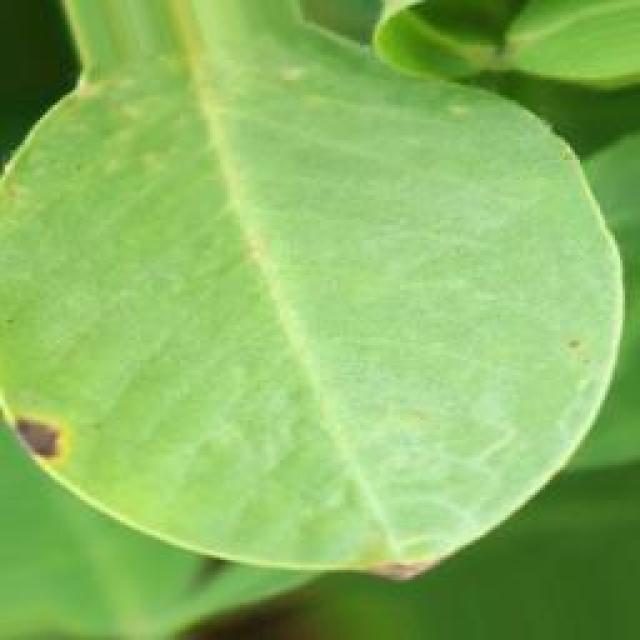Sigatoka: (550, 306, 640, 388), (0, 398, 85, 484), (354, 543, 434, 600)
